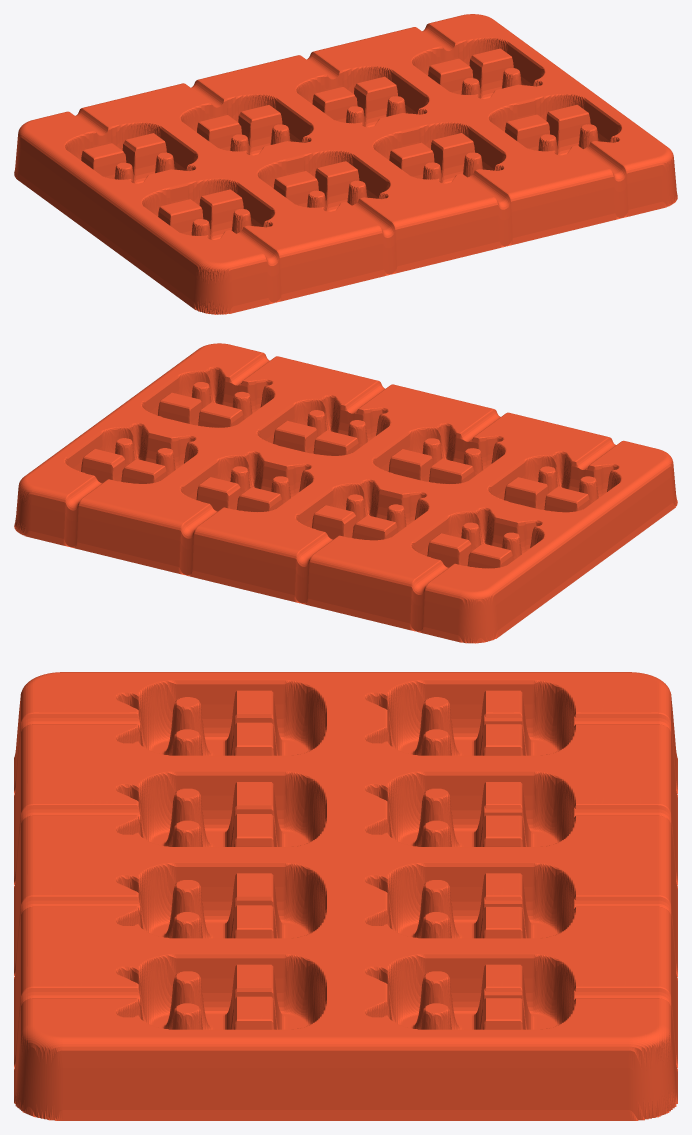
Rendered from mold.glb.
3 renders of one model, top to bottom at view 1: azimuth 30°, elevation 25°; view 2: azimuth 150°, elevation 25°; view 3: azimuth 270°, elevation 25°, orthographic. The views are drawn at different scales.
Parts seen in each view (by area): view 1: geometry_0; view 2: geometry_0; view 3: geometry_0.
Boxes of the visible parts, x1,y1,x2,y2 form: geometry_0: [14, 14, 677, 314]; geometry_0: [14, 343, 677, 643]; geometry_0: [14, 672, 677, 1120].
Bounding box in the file's own units: 0.1664 × 0.0155 × 0.1229.
